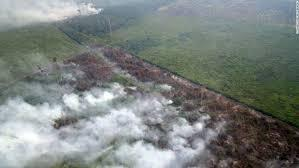yanwu: (1, 69, 227, 167), (1, 0, 102, 26)
